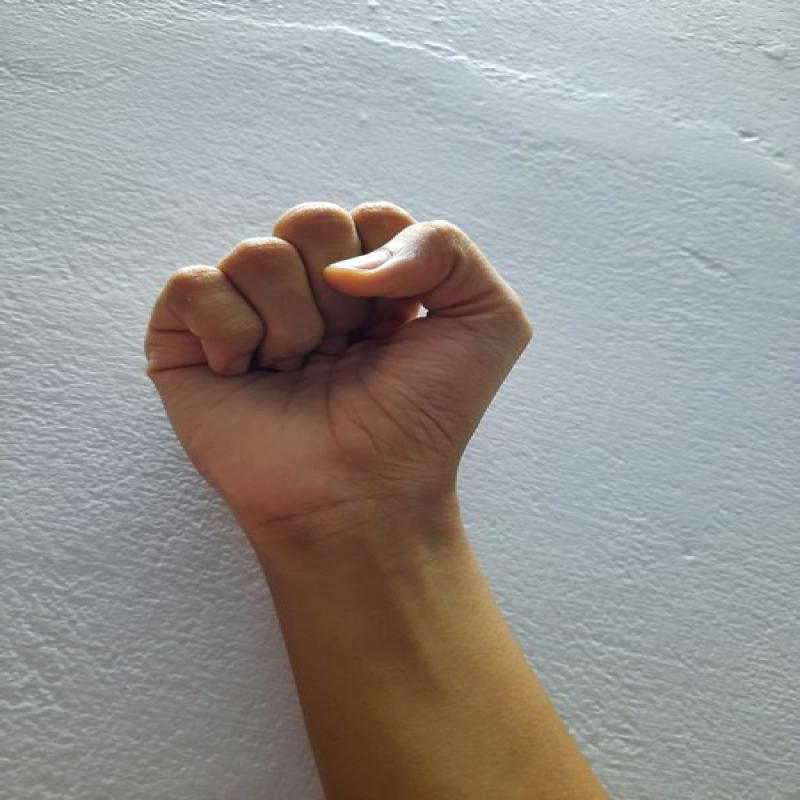Mushti: (135, 184, 546, 555)
